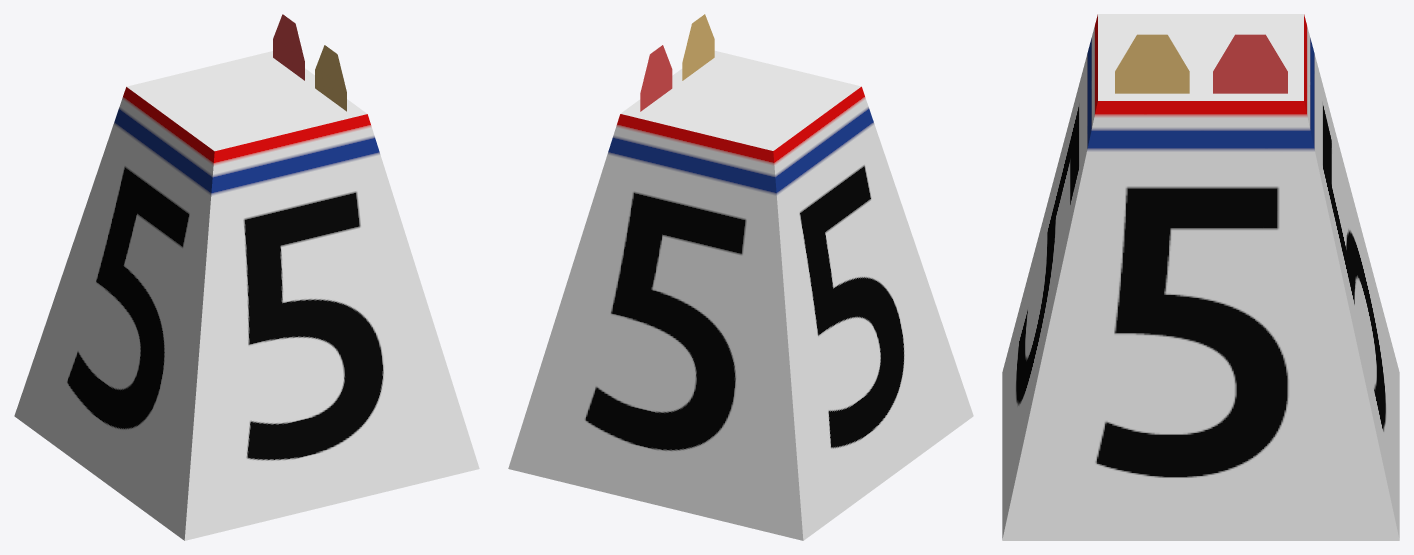
The model's file is Marker_Line5.FBX.
3 views of the same model, side by side, from view 1: azimuth 30°, elevation 25°; view 2: azimuth 150°, elevation 25°; view 3: azimuth 270°, elevation 25° (orthographic). The views are drawn at different scales.
Parts seen in each view (by area): view 1: Marker_Line5; view 2: Marker_Line5; view 3: Marker_Line5.
Part boxes in pixels (<box>): Marker_Line5: <box>14,14,479,540</box>; Marker_Line5: <box>508,14,973,540</box>; Marker_Line5: <box>1002,14,1399,540</box>.
Bounding box in the file's own units: 6.76 × 8.6 × 6.76.
